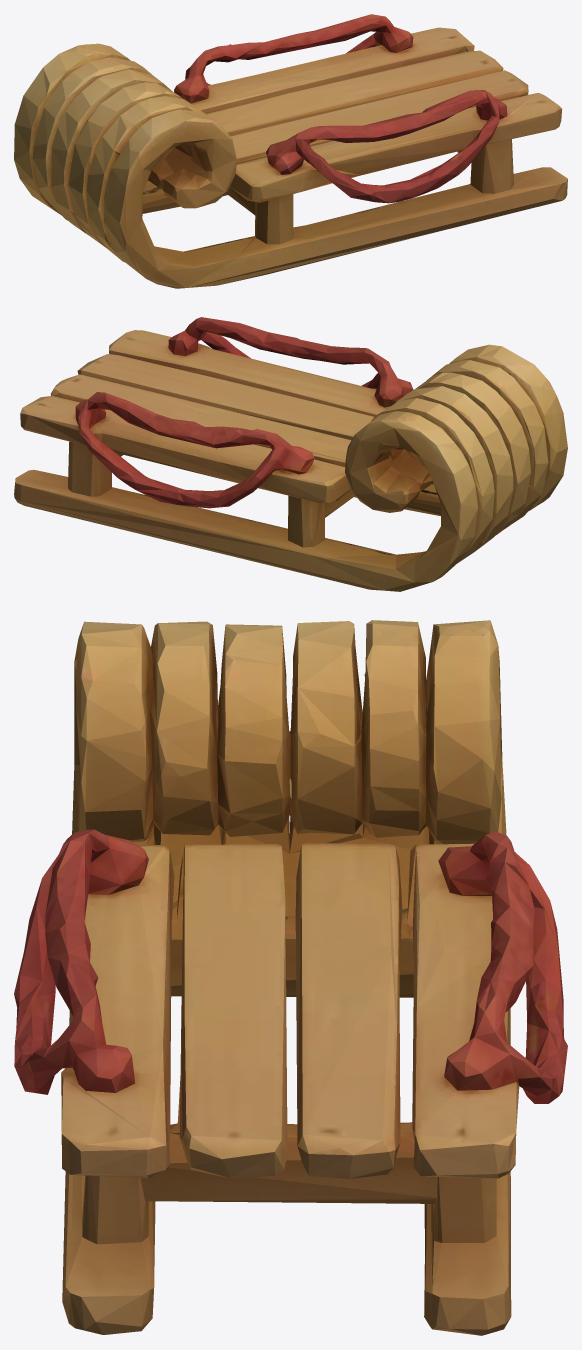
The model's file is toboggan.glb.
The picture shows the model from 3 angles, top to bottom: view 1: azimuth 30°, elevation 25°; view 2: azimuth 150°, elevation 25°; view 3: azimuth 270°, elevation 25°; orthographic projection. The views are drawn at different scales.
Visible parts, largest first — view 1: geometry_0; view 2: geometry_0; view 3: geometry_0.
Boxes of the visible parts, bbox=[...] form: geometry_0: bbox=[14, 14, 567, 288]; geometry_0: bbox=[14, 317, 567, 591]; geometry_0: bbox=[14, 620, 567, 1335].
Bounding box in the file's own units: 0.9978 × 0.3653 × 0.539.
Materials: 1 (1 with a texture image).
